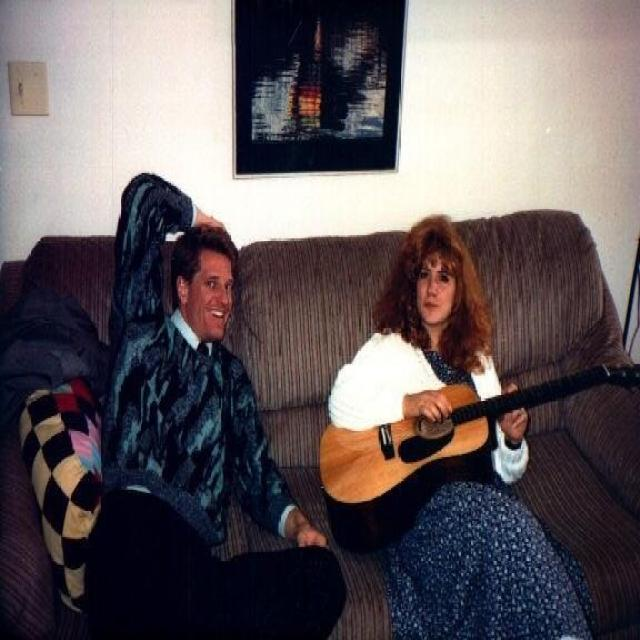guitar: (316, 358, 640, 550)
